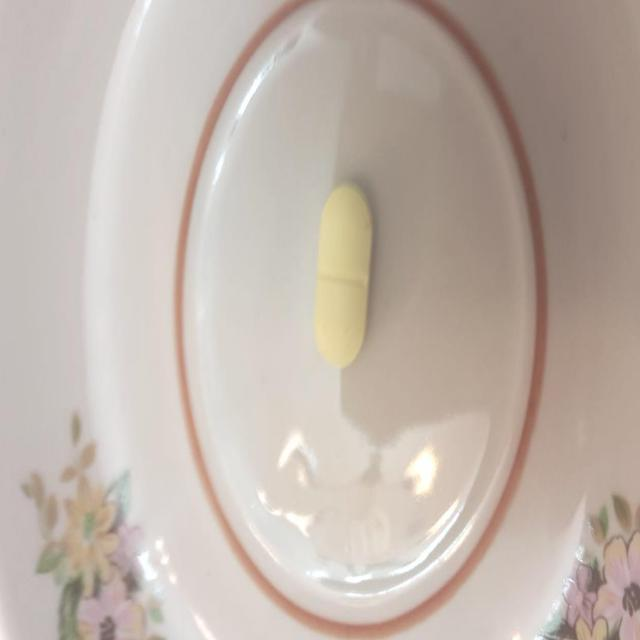pill: (311, 184, 373, 371)
